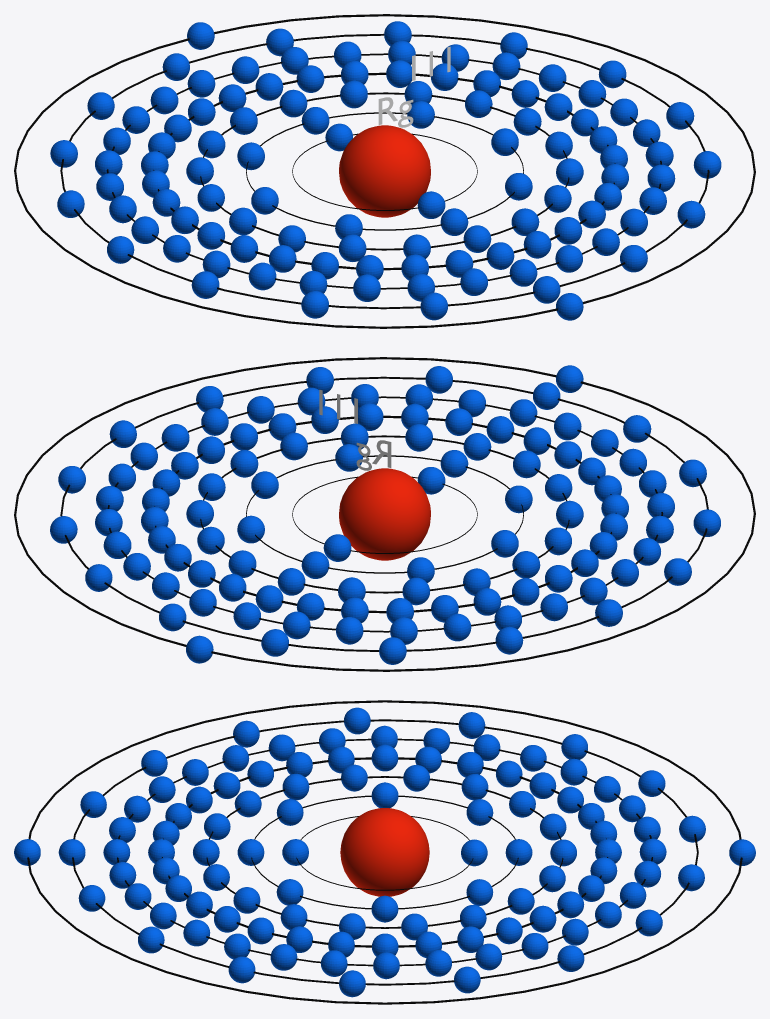
3 renders of one model, top to bottom at view 1: azimuth 30°, elevation 25°; view 2: azimuth 150°, elevation 25°; view 3: azimuth 270°, elevation 25°, orthographic. The views are drawn at different scales.
Parts seen in each view (by area): view 1: Rg5, Rg4, Rg3, Rg6, Proton, Rg2, n7, n6, n5, Rg7, Rg1, n3 (+3 smaller); view 2: Rg5, Rg4, Rg3, Rg6, Proton, Rg2, n7, n6, n5, Rg7, Rg1, n3 (+3 smaller); view 3: Rg5, Rg4, Rg3, Rg6, Proton, Rg2, n7, n6, n5, Rg1, Rg7, n3 (+2 smaller).
Part boxes in pixels (x1,y1,x2,y2): Rg5: [95, 41, 675, 301]; Rg4: [141, 60, 628, 280]; Rg3: [186, 80, 583, 261]; Rg6: [50, 21, 721, 320]; Proton: [339, 125, 430, 217]; Rg2: [237, 101, 532, 239]; n7: [14, 14, 755, 328]; n6: [60, 33, 709, 309]; n5: [106, 53, 661, 289]; Rg7: [187, 22, 583, 320]; Rg1: [325, 123, 445, 218]; n3: [200, 92, 569, 250]; Rg5: [95, 384, 674, 644]; Rg4: [141, 403, 628, 623]; Rg3: [186, 423, 583, 605]; Rg6: [50, 366, 720, 664]; Proton: [339, 468, 430, 560]; Rg2: [237, 444, 532, 582]; n7: [14, 357, 755, 671]; n6: [60, 376, 708, 651]; n5: [107, 396, 663, 632]; Rg7: [186, 365, 583, 663]; Rg1: [323, 467, 445, 561]; n3: [200, 435, 569, 593]; Rg5: [103, 725, 666, 979]; Rg4: [148, 744, 621, 957]; Rg3: [193, 764, 576, 940]; Rg6: [58, 707, 705, 997]; Proton: [340, 808, 429, 896]; Rg2: [237, 782, 532, 922]; n7: [27, 700, 742, 1004]; n6: [72, 719, 698, 985]; n5: [117, 738, 652, 966]; Rg1: [282, 839, 487, 866]; Rg7: [14, 839, 755, 865]; n3: [206, 776, 563, 928].
Size of the model in its own units: 802 by 180 by 830.
